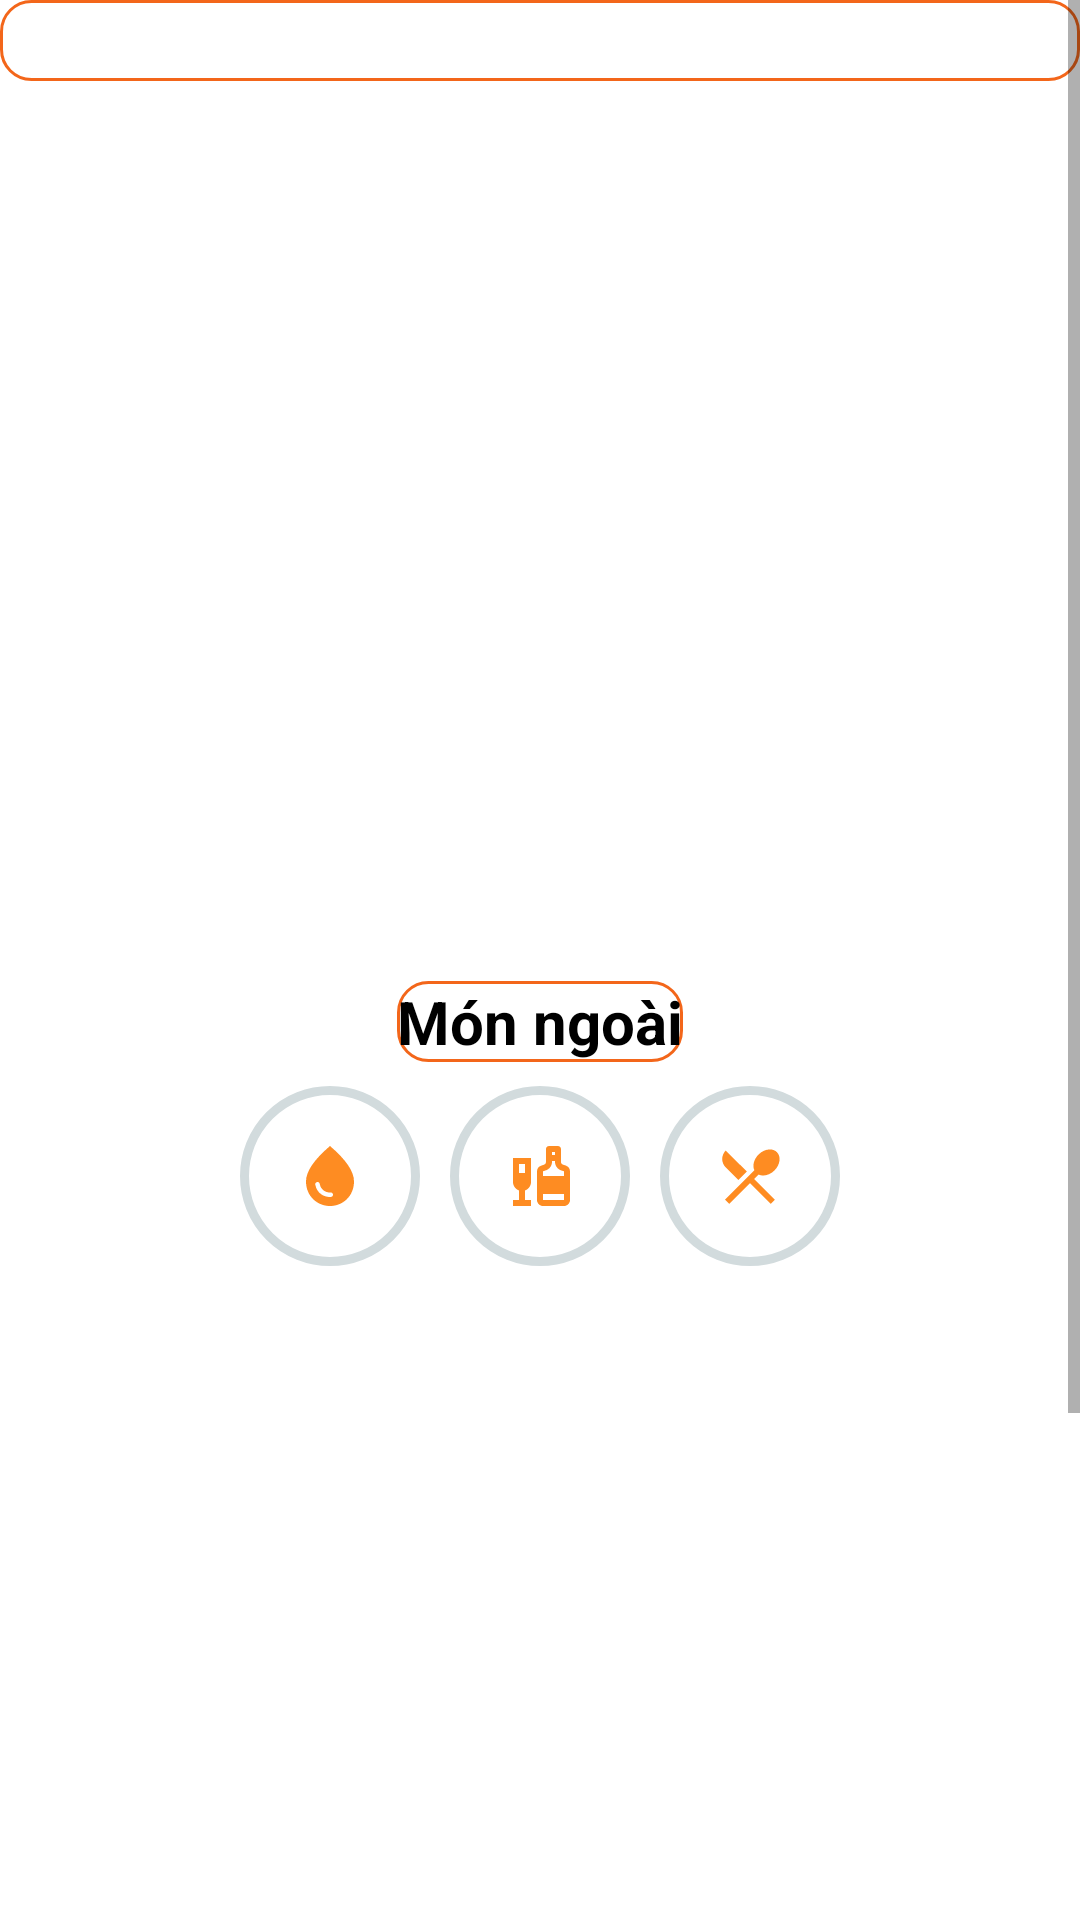

Where icons sit on this 1080px×1920px app screen, as (x1,y1,x2,y2):
liquor: (450,1086,630,1266)
local dining: (660,1086,840,1266)
water drop: (240,1086,420,1266)
